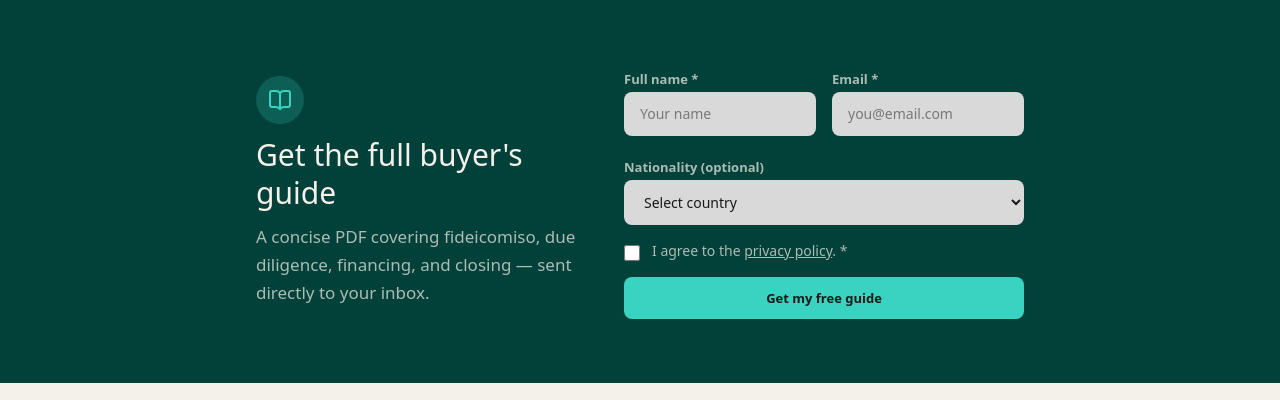
Test: GuideDownloadForm › posts to /api/guide-download with name and email
The width and height of the screenshot is (1280, 400).
In the field with placeholder "Your name": (720, 114) [624, 92, 816, 136], type "Ana"
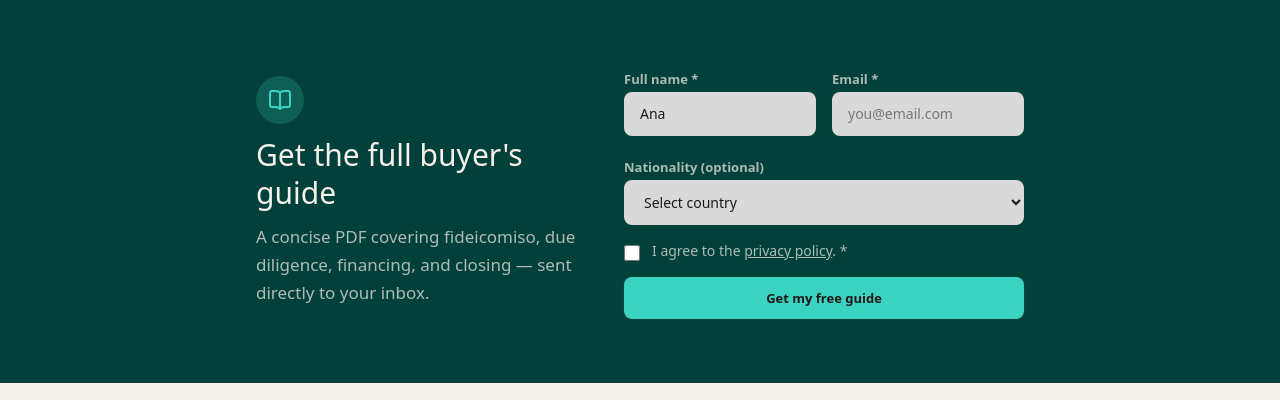
In the field with placeholder "you@email.com": (928, 114) [832, 92, 1024, 136], type "ana@example.com"
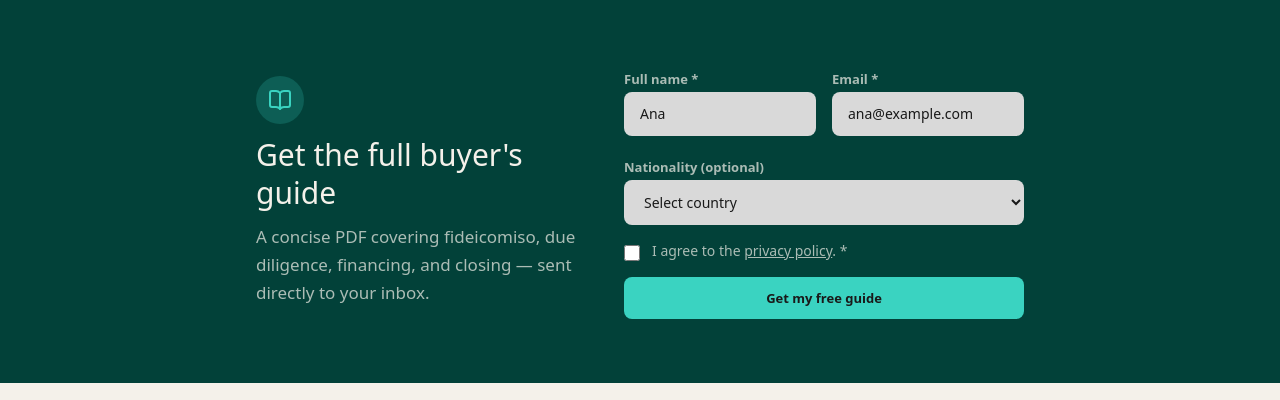
Submit the form with placeholder "Your name", box [624, 64, 1024, 319]
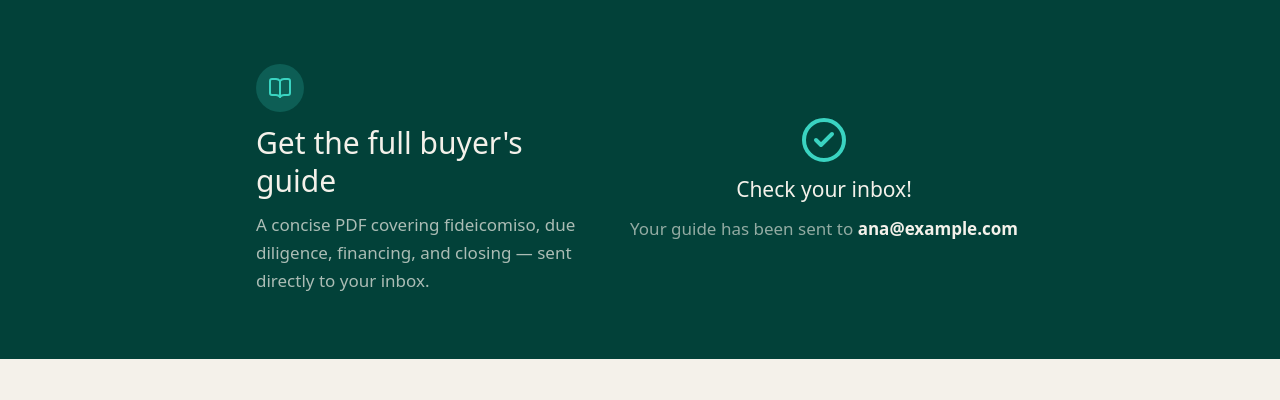
Check: the text "Check your inbox!" is shown, box [736, 176, 912, 203]
Check: the text "ana@example.com" is shown, box [858, 217, 1018, 240]
